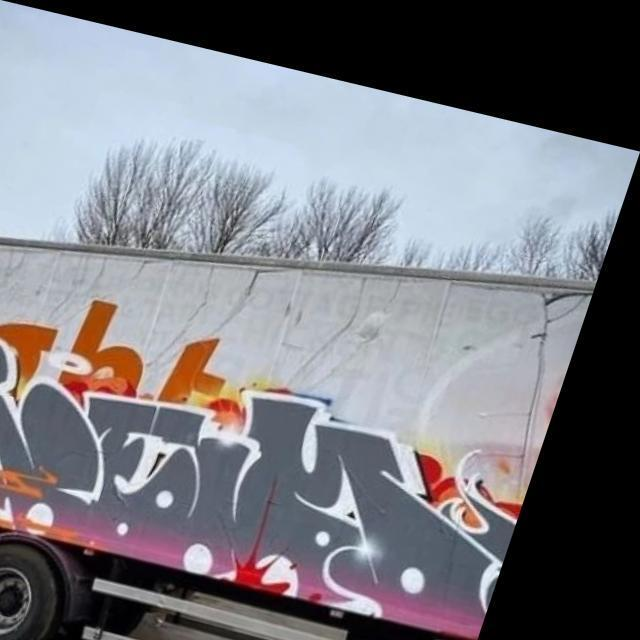-: (0, 340, 549, 604)
